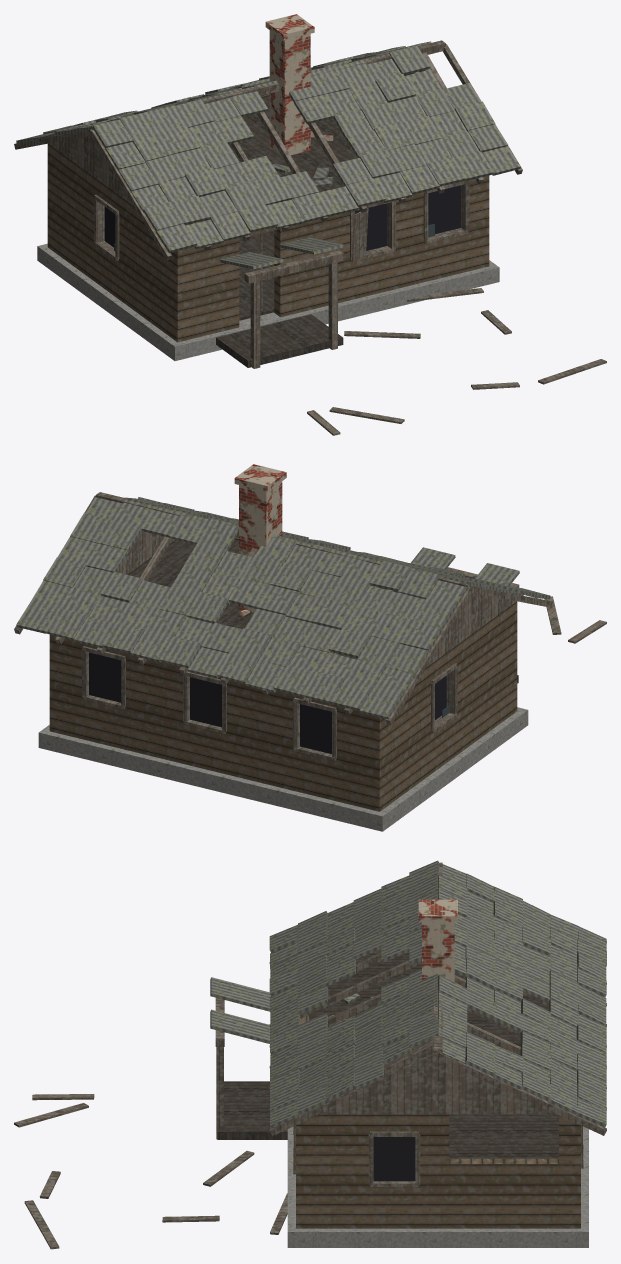
File: house_izba_a.glb
3 views of the same model, one above another, from view 1: azimuth 30°, elevation 25°; view 2: azimuth 150°, elevation 25°; view 3: azimuth 270°, elevation 25° (orthographic). The views are drawn at different scales.
Parts seen in each view (by area): view 1: house_izba_a; view 2: house_izba_a; view 3: house_izba_a.
Boxes of the visible parts, bbox=[...] form: house_izba_a: bbox=[14, 14, 606, 435]; house_izba_a: bbox=[14, 464, 606, 831]; house_izba_a: bbox=[14, 860, 606, 1249].
Size of the model in its own units: 8.2 by 5.37 by 10.82.
Materials: 8 (6 with a texture image).
